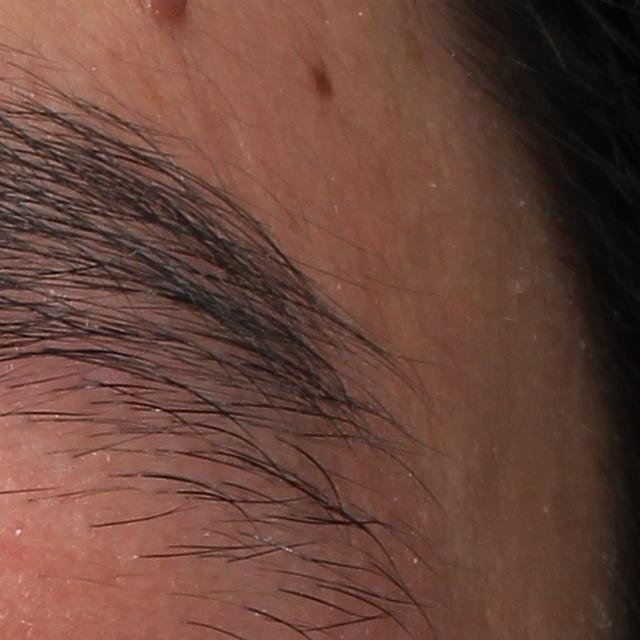nevus: (306, 60, 334, 104)
